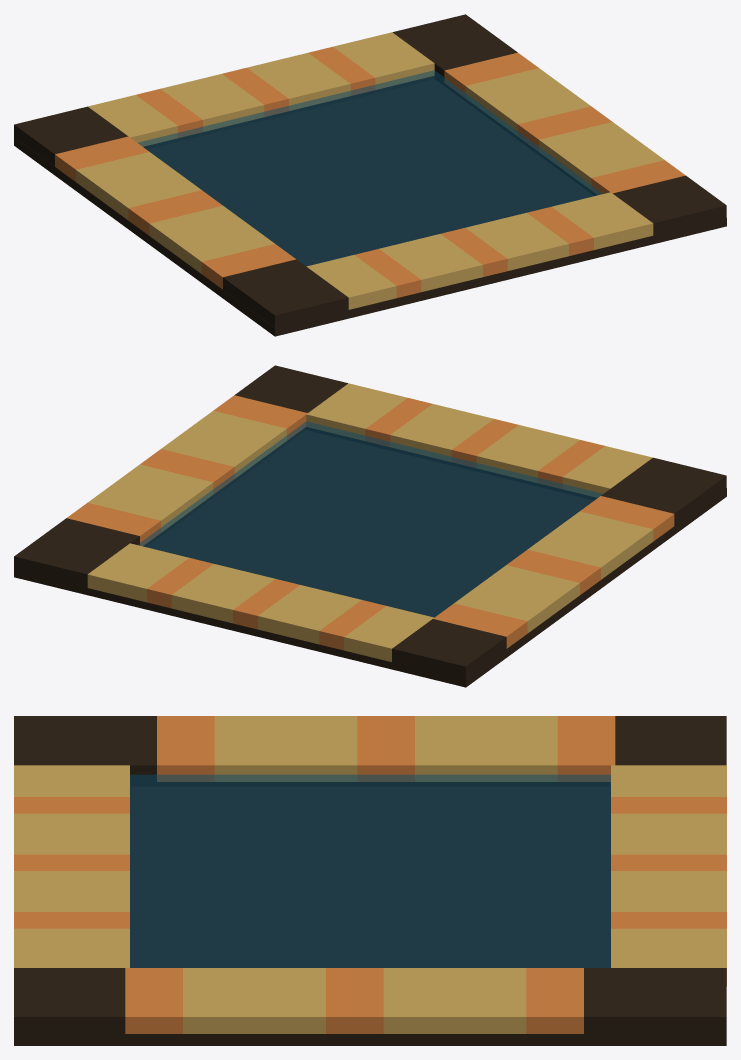
Rendered from fountain.FBX.
The picture shows the model from 3 angles, top to bottom: view 1: azimuth 30°, elevation 25°; view 2: azimuth 150°, elevation 25°; view 3: azimuth 270°, elevation 25°; orthographic projection. The views are drawn at different scales.
Visible parts, largest first — view 1: fountain; view 2: fountain; view 3: fountain.
Part boxes in pixels (x1,y1,x2,y2): fountain: (14,14,726,336); fountain: (14,365,726,687); fountain: (14,716,726,1045).
Size of the model in its own units: 2112 by 122 by 2113.
